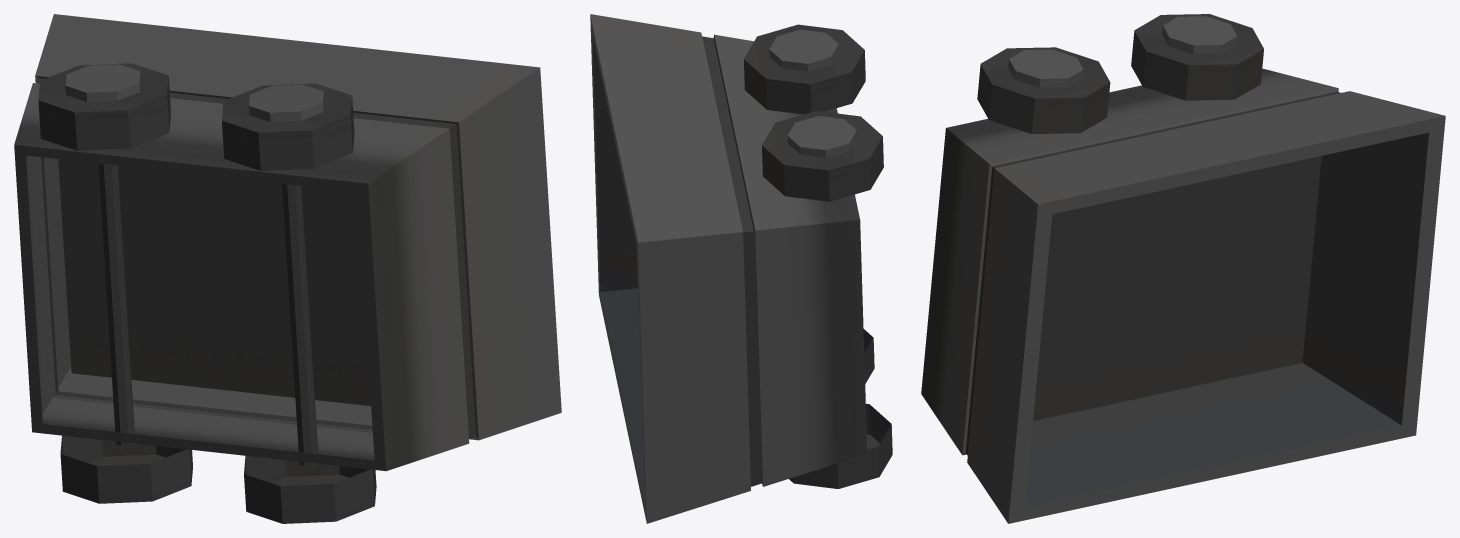
The model's file is CarrinhoMinaVirado.glb.
The picture shows the model from 3 angles, left to right: view 1: azimuth 30°, elevation 25°; view 2: azimuth 150°, elevation 25°; view 3: azimuth 270°, elevation 25°; orthographic projection. The views are drawn at different scales.
Parts seen in each view (by area): view 1: CarrinhoMinaVirado; view 2: CarrinhoMinaVirado; view 3: CarrinhoMinaVirado.
Boxes of the visible parts, <box> form: CarrinhoMinaVirado: <box>14,14,561,523</box>; CarrinhoMinaVirado: <box>590,14,892,523</box>; CarrinhoMinaVirado: <box>921,14,1445,523</box>.
Bounding box in the file's own units: 2.04 × 1.93 × 2.31.
Materials: 1 (1 with a texture image).
